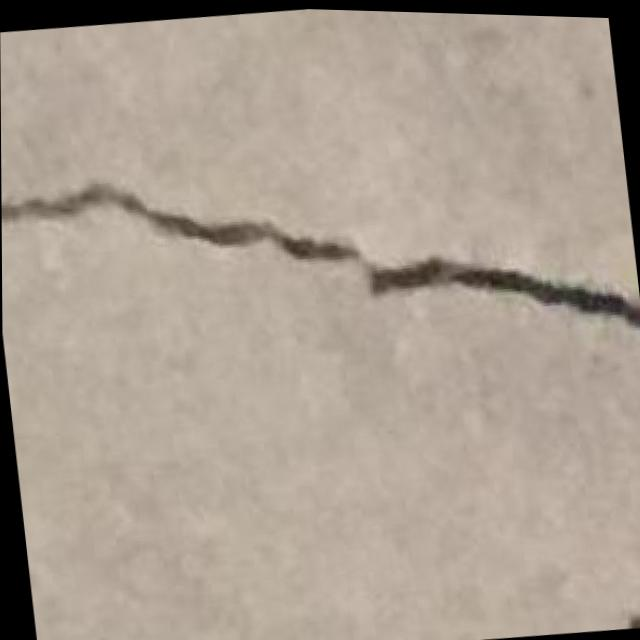Crack: (1, 118, 640, 403)
